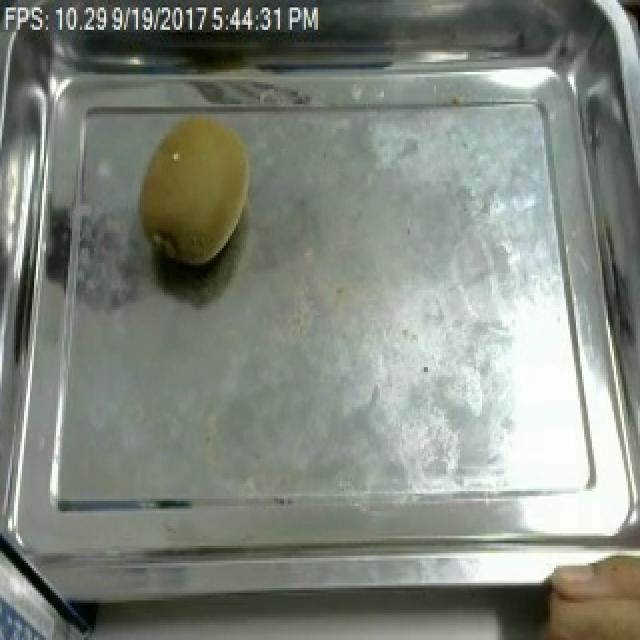Fruit: (132, 109, 260, 273)
